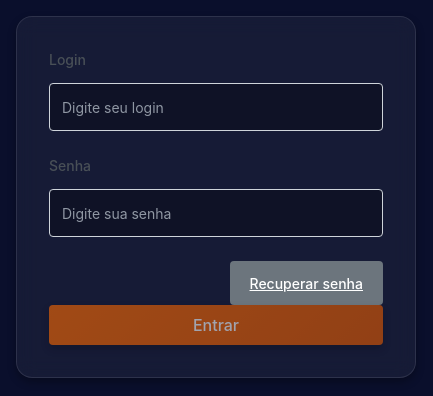
Scenario: Login Component › Estados de loading › deve desabilitar botão durante loading
Type "usuario123" into the field labelled "Login". click: {"x": 216, "y": 107}
box: [49,83,383,131]
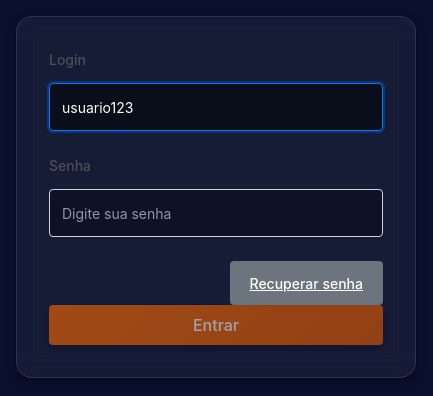
Type "senha123" into the password field labelled "Senha". click: {"x": 216, "y": 213}
box: [49,189,383,237]
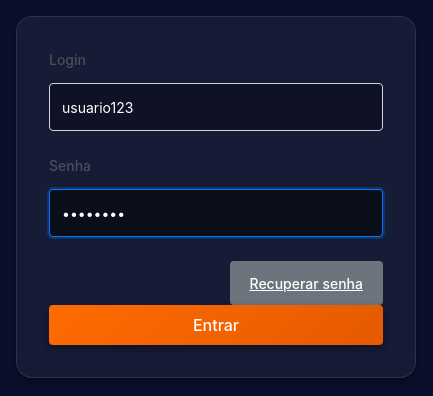
Click the button "Entrar". click: {"x": 216, "y": 325}
box: [49,305,383,345]
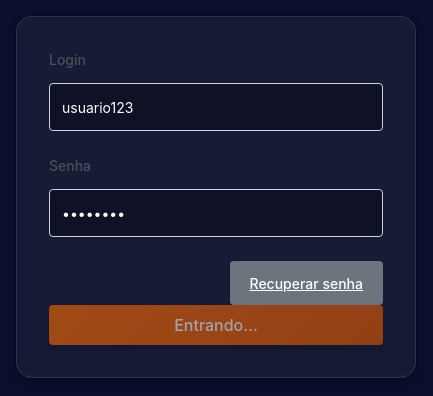
Expected: the button "Entrando..." is disabled, [49,305,383,345]
